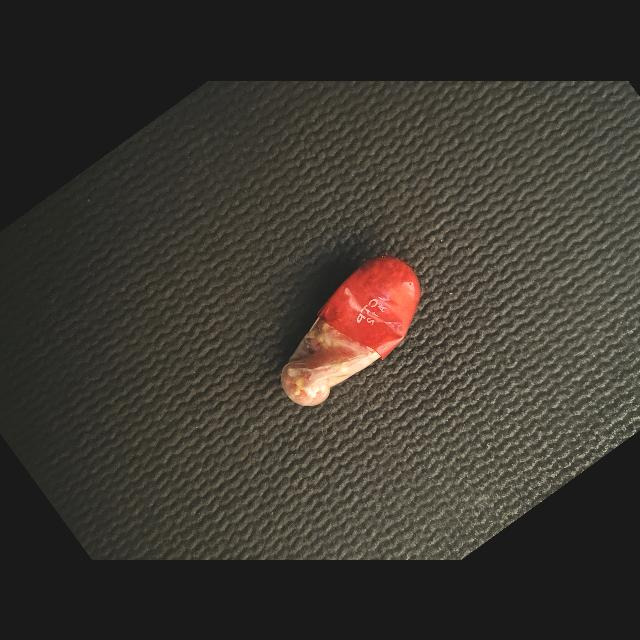Defective Capsule: (281, 256, 420, 406)
